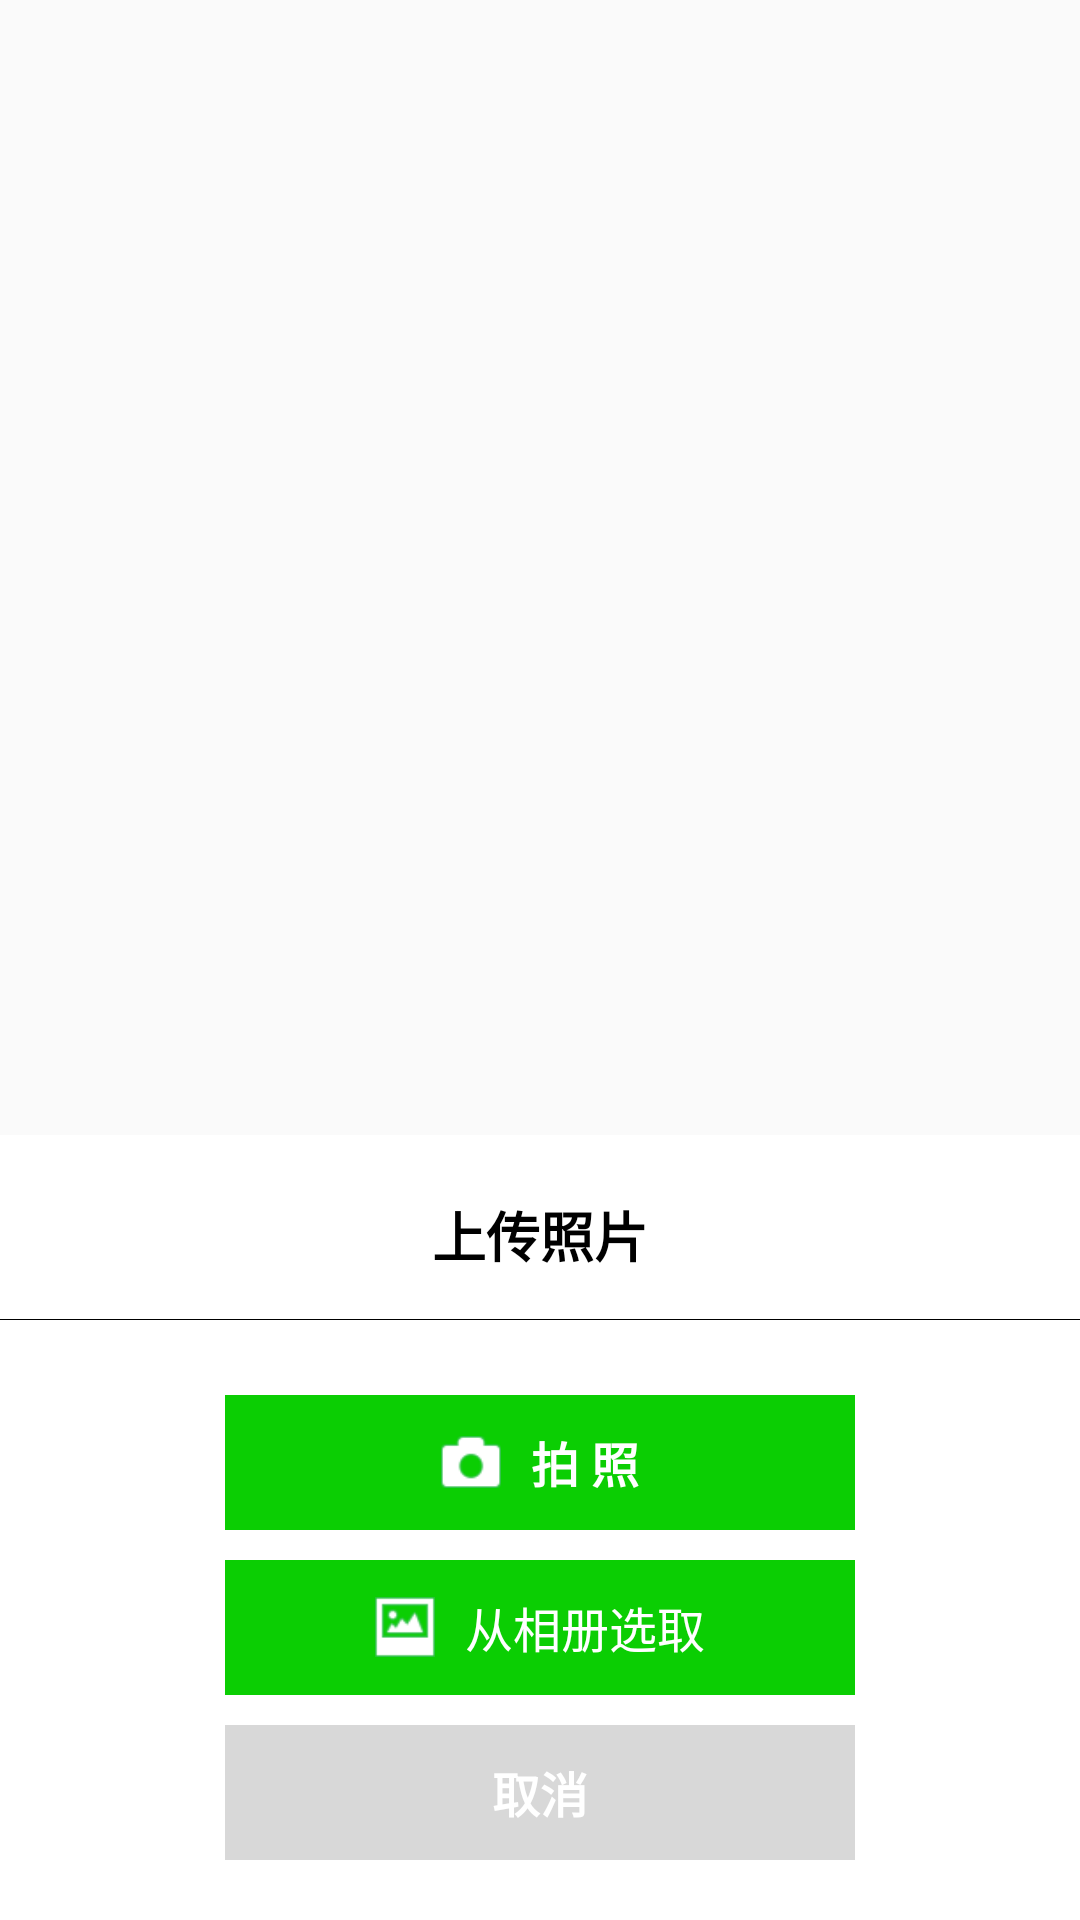

Icons on this 1080×1920 Android screen, each with the point to tap as [x,y]:
myproblem dialog album: [405,1627]
myproblem dialog camera: [471,1462]
